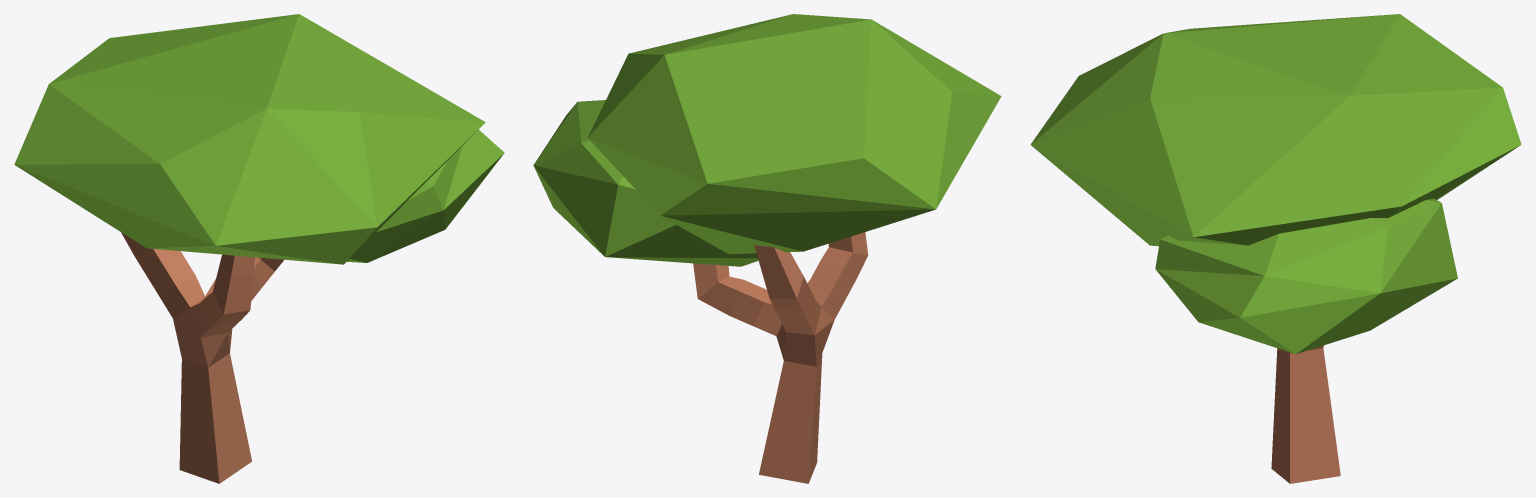
The model's file is oak 3.gltf.
3 views of the same model, side by side, from view 1: azimuth 30°, elevation 25°; view 2: azimuth 150°, elevation 25°; view 3: azimuth 270°, elevation 25° (orthographic). The views are drawn at different scales.
Parts seen in each view (by area): view 1: Icosphere.007, tree.004, Icosphere.008; view 2: Icosphere.007, tree.004, Icosphere.008; view 3: Icosphere.007, Icosphere.008, tree.004.
Part boxes in pixels (x1,y1,x2,y2): Icosphere.007: (14, 14, 485, 264); tree.004: (121, 232, 283, 483); Icosphere.008: (347, 129, 504, 262); Icosphere.007: (587, 14, 1001, 254); tree.004: (693, 232, 868, 483); Icosphere.008: (533, 100, 758, 266); Icosphere.007: (1030, 14, 1521, 246); Icosphere.008: (1155, 198, 1457, 354); tree.004: (1271, 345, 1340, 483).
Size of the model in its own units: 8.41 by 7.68 by 7.89.
1 material, 1 textured.
